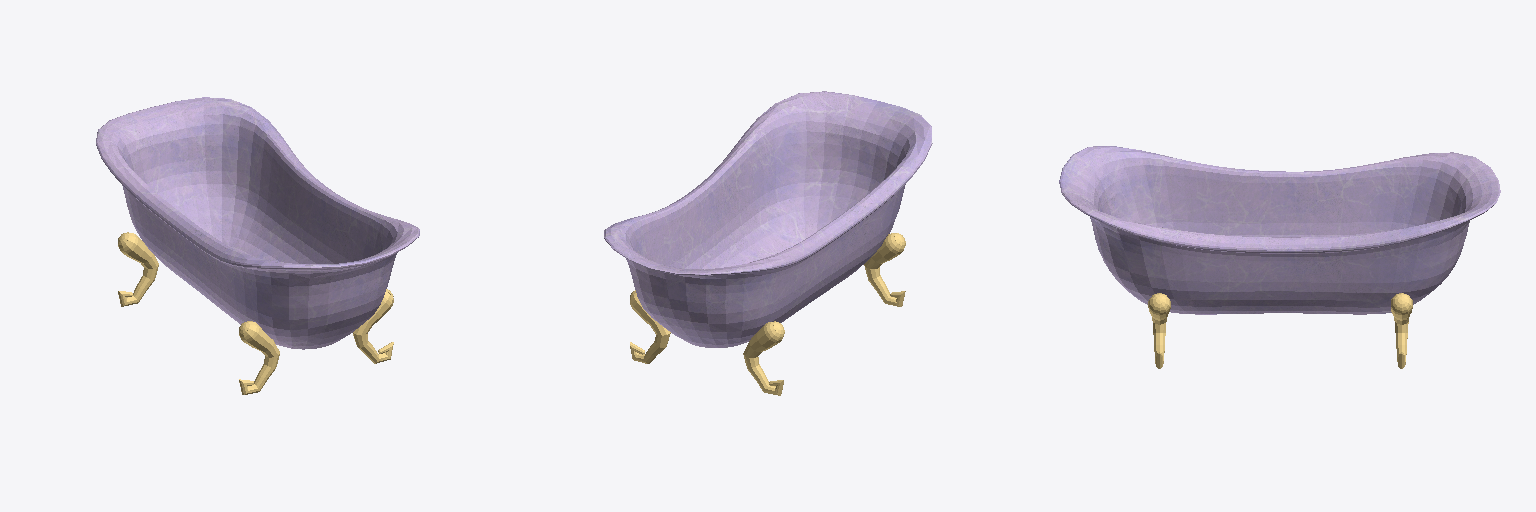
3 views of the same model, side by side, from view 1: azimuth 30°, elevation 25°; view 2: azimuth 150°, elevation 25°; view 3: azimuth 270°, elevation 25° (orthographic).
Visible parts, largest first — view 1: bathtub.002_bathtub.005; view 2: bathtub.002_bathtub.005; view 3: bathtub.002_bathtub.005.
Boxes of the visible parts, x1=… form: bathtub.002_bathtub.005: x1=96, y1=97, x2=419, y2=394; bathtub.002_bathtub.005: x1=604, y1=91, x2=932, y2=395; bathtub.002_bathtub.005: x1=1059, y1=146, x2=1500, y2=368.
Bounding box in the file's own units: 1.45 × 1.27 × 3.28.
1 materials, 1 textured.